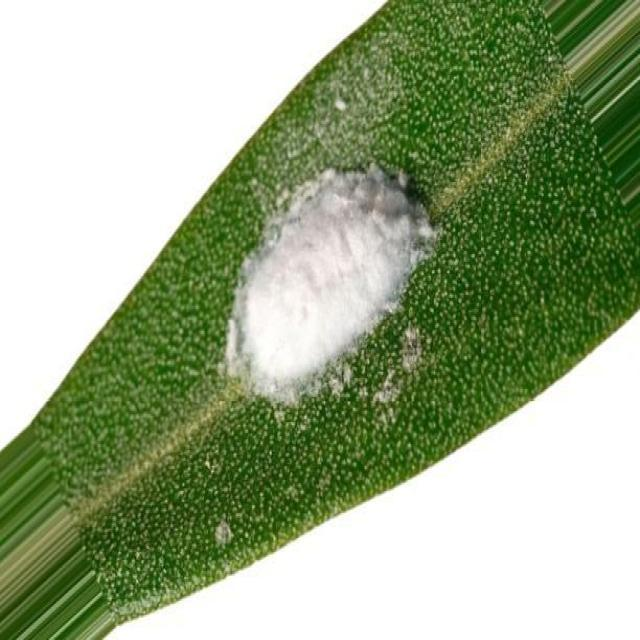Psyllid: (224, 162, 437, 420)
